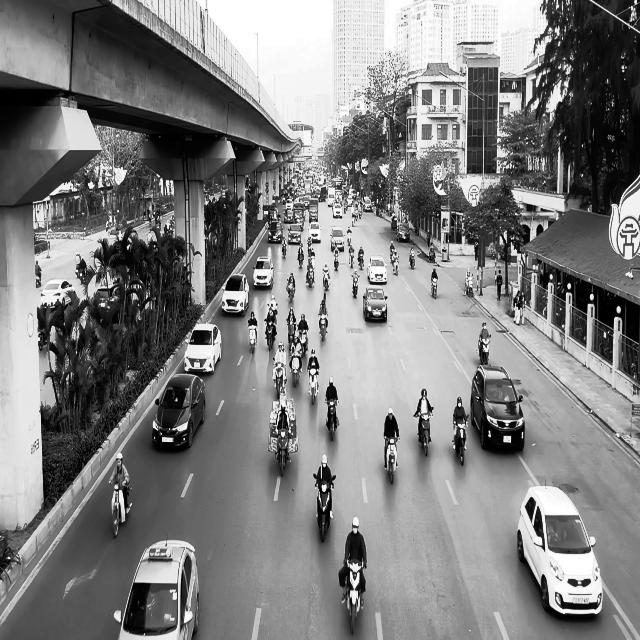car: (517, 482, 603, 618), (114, 536, 200, 640), (470, 364, 526, 451), (152, 373, 206, 450), (184, 323, 222, 374), (222, 273, 250, 315), (40, 278, 76, 310), (363, 286, 388, 322), (252, 256, 274, 290), (367, 256, 388, 284), (330, 226, 345, 252), (396, 222, 411, 242), (308, 221, 322, 242), (288, 224, 302, 244)
motorbike: (345, 558, 366, 634), (314, 472, 336, 542), (109, 478, 132, 538), (416, 409, 434, 456), (276, 428, 292, 477), (384, 436, 400, 484), (453, 418, 468, 466), (325, 398, 339, 442), (290, 351, 303, 386), (308, 368, 320, 404), (264, 318, 276, 350), (479, 335, 491, 364), (248, 321, 258, 354), (319, 313, 328, 341), (351, 272, 359, 298), (286, 280, 295, 302), (323, 270, 331, 290), (431, 278, 438, 299), (428, 248, 436, 263), (282, 239, 288, 258), (334, 248, 339, 270), (410, 252, 416, 269)
